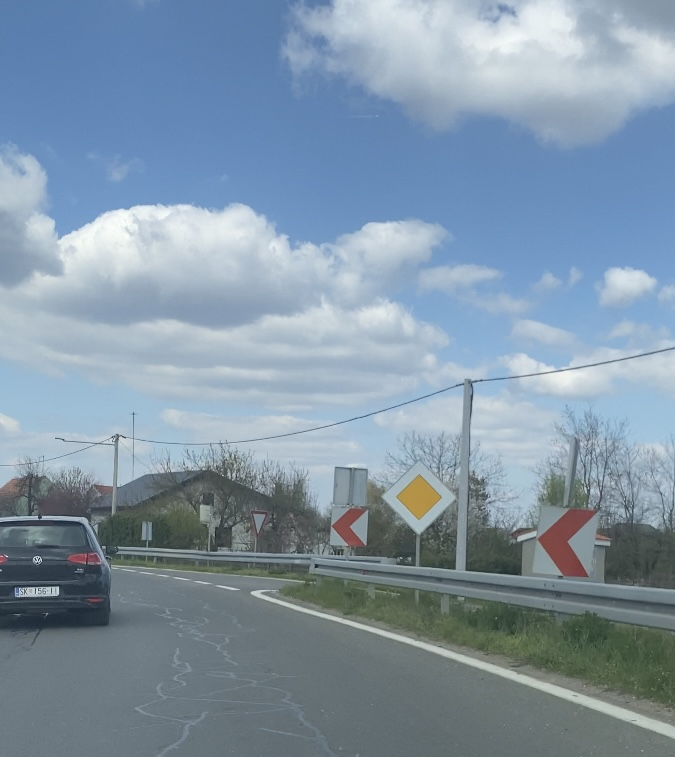Cesta s prednošću prolaska: (380, 460, 457, 535)
